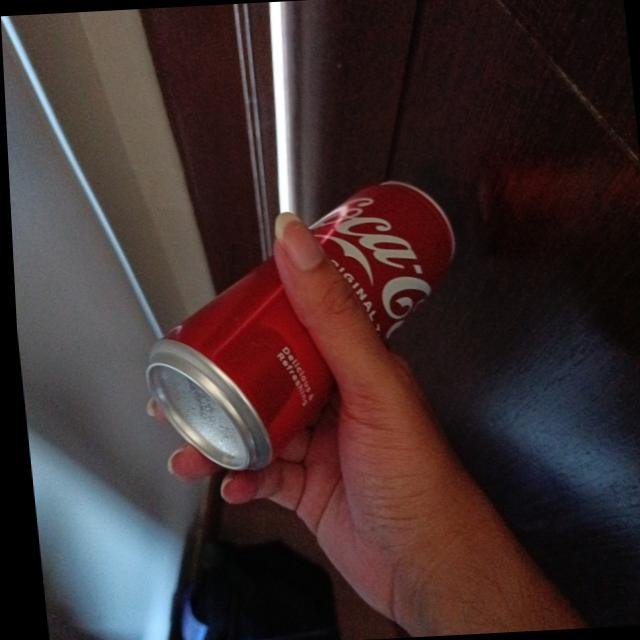coke: (125, 176, 473, 477)
